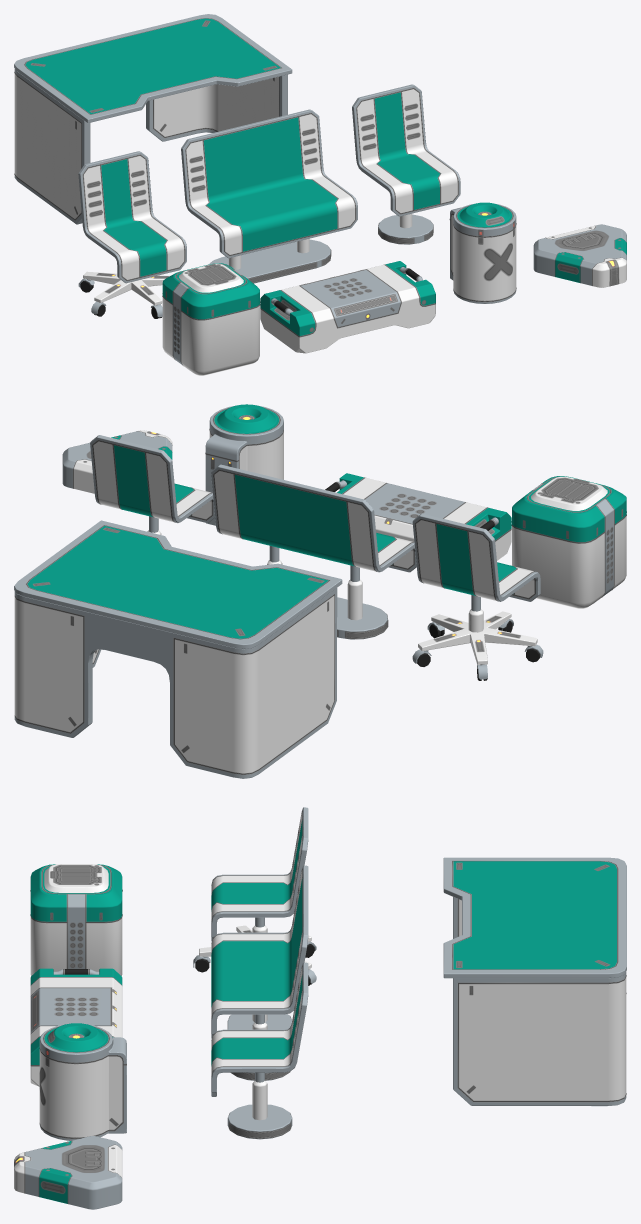
3 renders of one model, top to bottom at view 1: azimuth 30°, elevation 25°; view 2: azimuth 150°, elevation 25°; view 3: azimuth 270°, elevation 25°, orthographic. The views are drawn at different scales.
Parts seen in each view (by area): view 1: Table001_Color3_0, Chair003_Color3_0, Table001_Color2_0, Container002, Container001, Table001_Color1_0, Container003, Chair001_Color2_0, Chair003_Color1_0, Chair003_Color2_0, Container004, Chair002_Color2_0 (+12 smaller); view 2: Table001_Color2_0, Table001_Color3_0, Table001_Color1_0, Container001, Chair003_Color3_0, Chair001_Color2_0, Container002, Container003, Chair003_Color2_0, Chair003_Color1_0, Table001_d, Chair002_Color2_0 (+12 smaller); view 3: Table001_Color2_0, Table001_Color3_0, Container003, Container001, Table001_Color1_0, Container002, Chair003_Color3_0, Container004, Chair002_Color1_0, Table001_d, Chair003_Color1_0, Container001_d (+12 smaller).
Boxes of the visible parts, x1,y1,x2,y2 form: Table001_Color3_0: [25, 18, 280, 114]; Chair003_Color3_0: [204, 117, 337, 251]; Table001_Color2_0: [14, 74, 278, 218]; Container002: [260, 261, 435, 353]; Container001: [162, 263, 259, 375]; Table001_Color1_0: [14, 14, 292, 224]; Container003: [450, 202, 516, 303]; Chair001_Color2_0: [83, 156, 184, 305]; Chair003_Color1_0: [181, 109, 357, 283]; Chair003_Color2_0: [186, 114, 354, 269]; Container004: [533, 224, 626, 287]; Chair002_Color2_0: [357, 89, 457, 228]; Table001_Color2_0: [14, 596, 334, 773]; Table001_Color3_0: [27, 526, 328, 638]; Table001_Color1_0: [14, 520, 342, 778]; Container001: [512, 476, 626, 608]; Chair003_Color3_0: [235, 474, 395, 566]; Chair001_Color2_0: [416, 520, 537, 664]; Container002: [325, 473, 511, 560]; Container003: [205, 404, 283, 525]; Chair003_Color2_0: [214, 471, 413, 620]; Chair003_Color1_0: [211, 464, 416, 639]; Table001_d: [14, 525, 335, 774]; Chair002_Color2_0: [93, 441, 211, 534]; Table001_Color2_0: [459, 899, 626, 1100]; Table001_Color3_0: [453, 861, 616, 969]; Container003: [39, 1023, 126, 1140]; Container001: [30, 864, 122, 975]; Table001_Color1_0: [443, 857, 626, 1106]; Container002: [30, 968, 122, 1086]; Chair003_Color3_0: [211, 879, 302, 1006]; Container004: [14, 1136, 122, 1209]; Chair002_Color1_0: [211, 962, 308, 1139]; Table001_d: [452, 860, 626, 1102]; Chair003_Color1_0: [211, 865, 308, 1080]; Container001_d: [30, 865, 122, 968].
Bounding box in the file's own units: 344 × 89.4 × 334.
5 materials, 1 textured.
